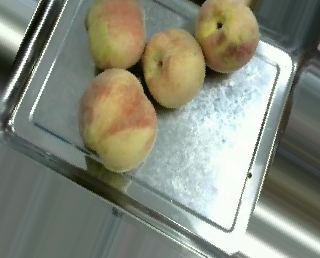Peach: (77, 69, 157, 172), (140, 25, 204, 110), (195, 0, 259, 72), (84, 0, 145, 70)
